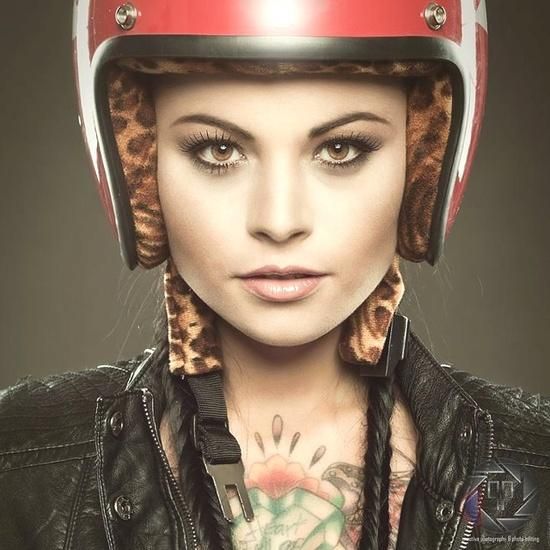helmet: (41, 0, 523, 325)
